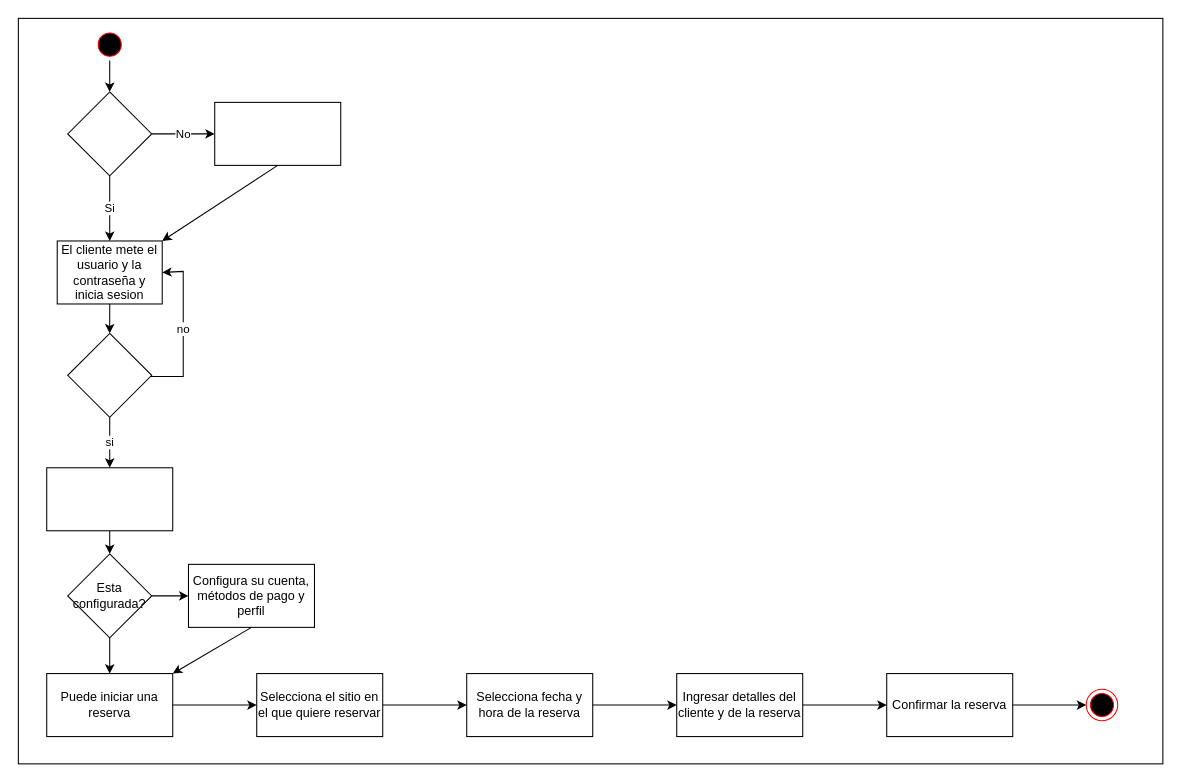
Image size: 1181x782. Some labels were removed from this diagram. The shapes that lost their labels are listed below. From the top down, each one's centre as x and y in pixels, then its label:
(109,133): Tiene cuenta?
(277,133): Crea una cuenta en la aplicacion
(109,374): Es correcta?
(109,499): Entra a su cuenta
